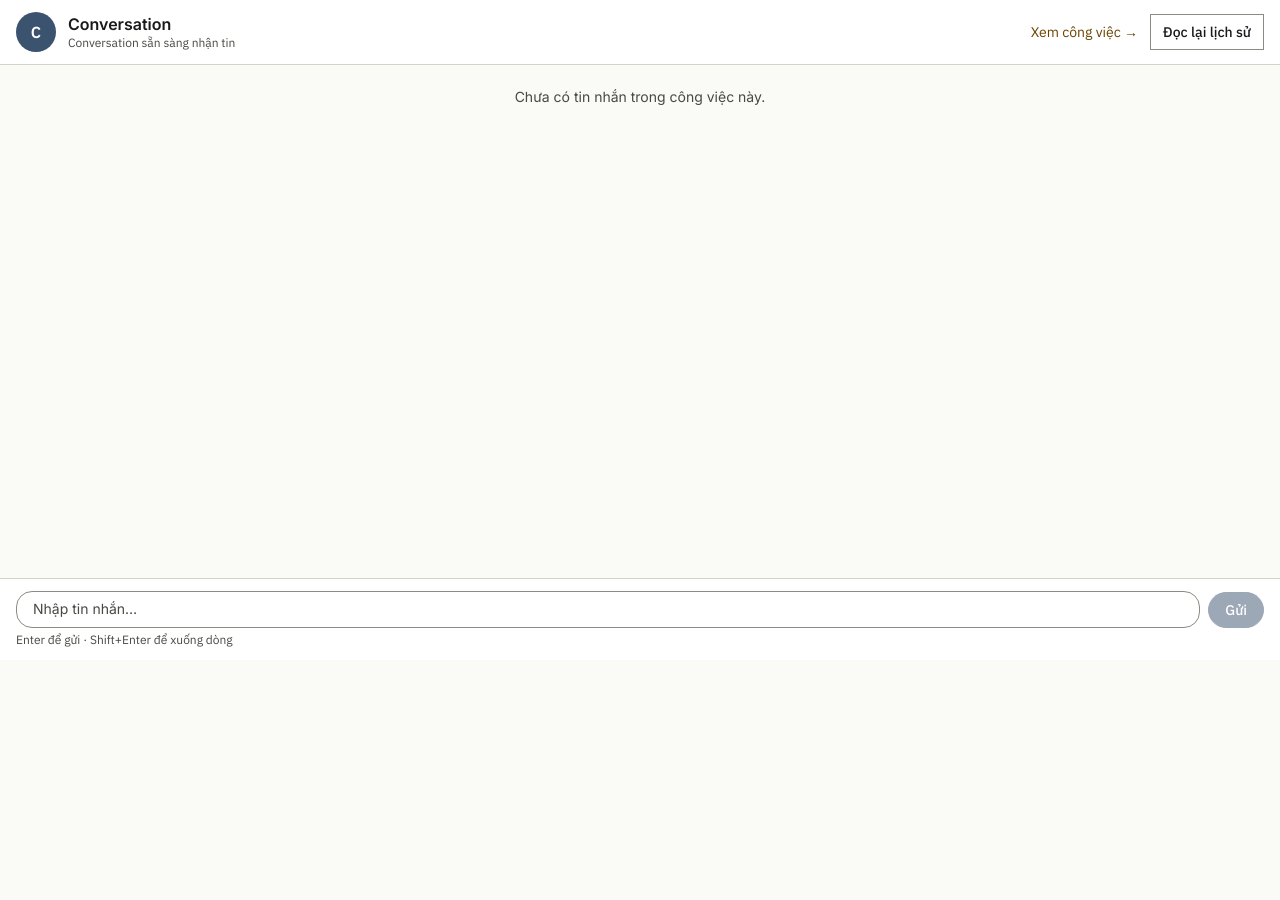
Test: sends a validated message with exact run/session and never auto retries a lost ACK
The width and height of the screenshot is (1280, 900).
In the text box named "Tin nhắn cho Conversation": {"x": 608, "y": 610} [16, 591, 1200, 628], type "Nội dung mới"
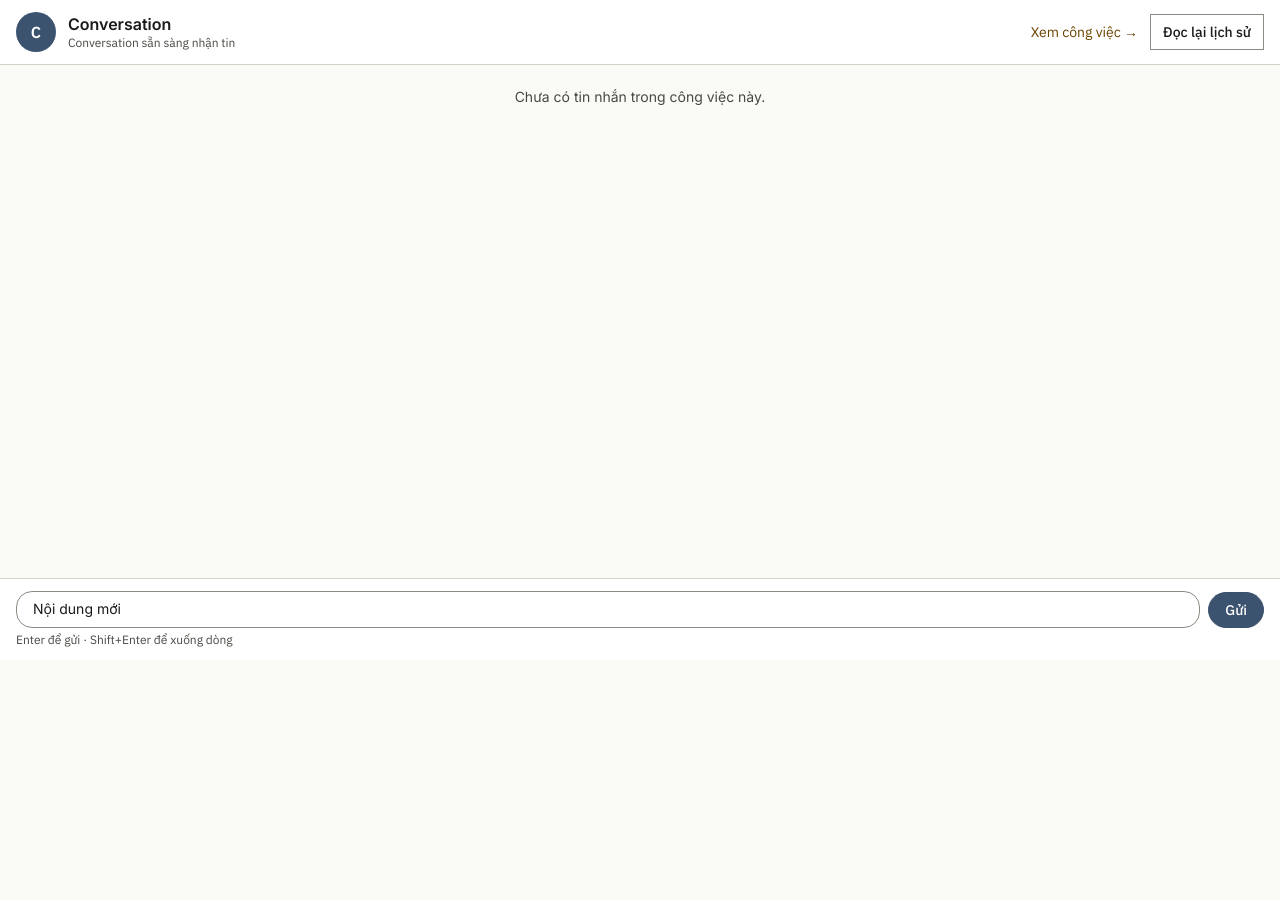
Click the button with aria-label "Gửi tin nhắn": {"x": 1236, "y": 610} [1208, 592, 1264, 628]
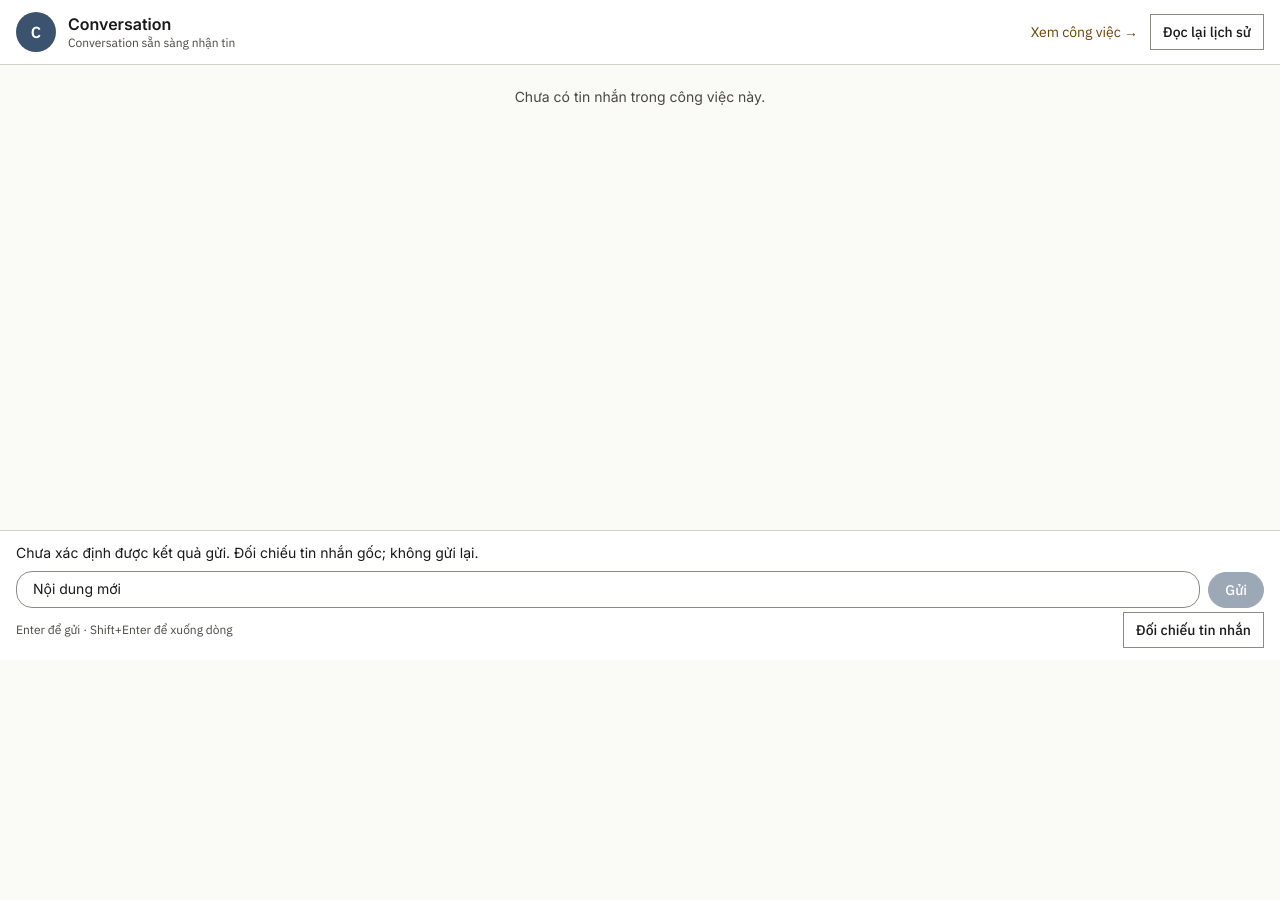
Expected: the text "Chưa xác định được kết quả gửi. Đối chiếu tin nhắn gốc; không gửi lại." is shown, [16, 544, 478, 561]
Click the button "Đối chiếu tin nhắn": {"x": 1194, "y": 630} [1123, 612, 1264, 648]
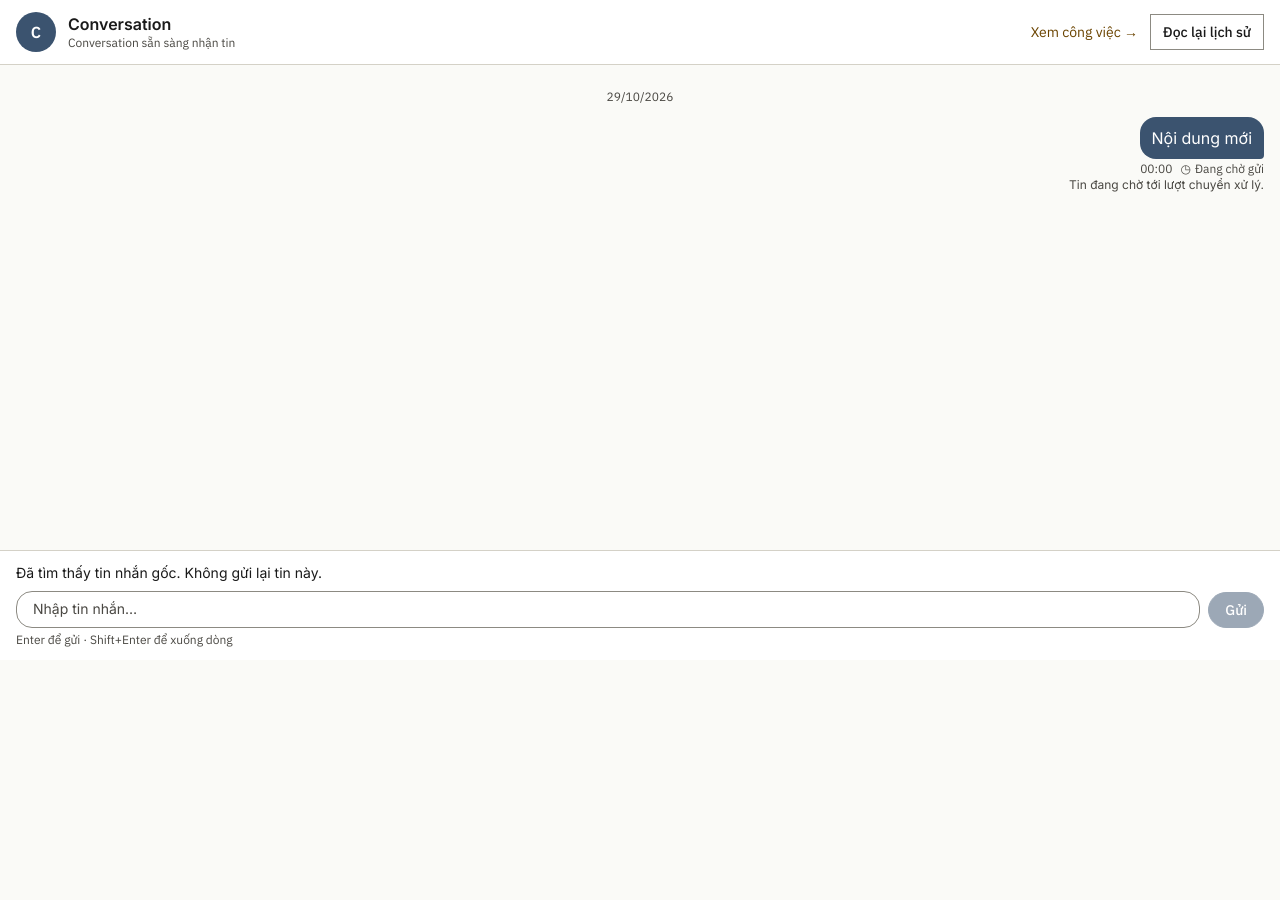
Expected: the text "Đã tìm thấy tin nhắn gốc. Không gửi lại tin này." is shown, [16, 564, 322, 581]
